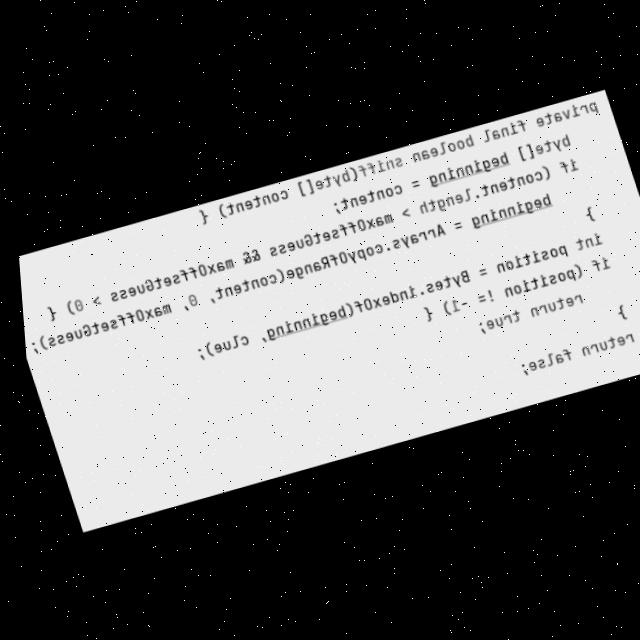code_screen: (19, 92, 640, 529)
